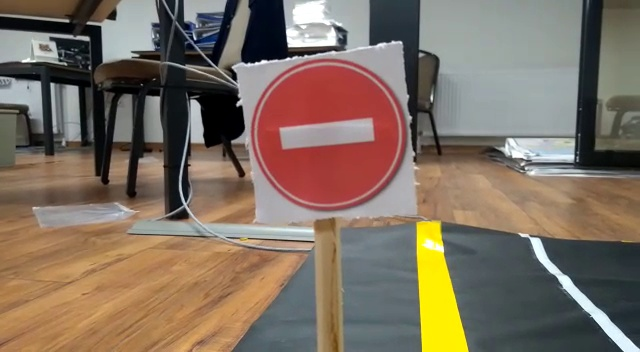girisi_olmayan_yol: (255, 54, 410, 214)
